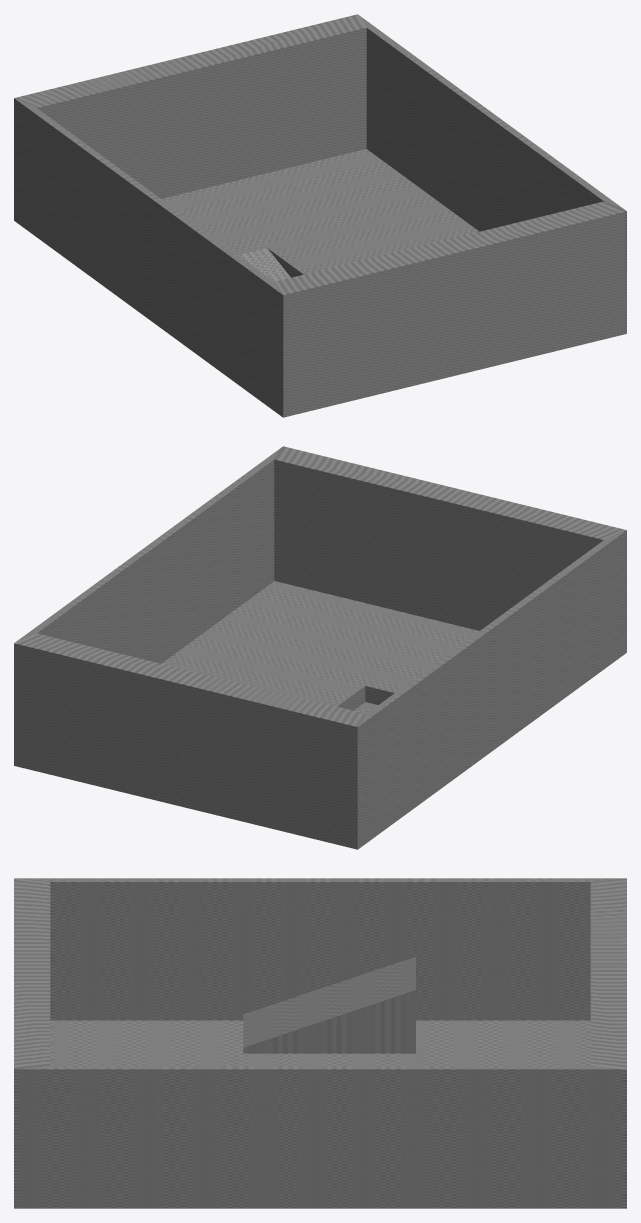
The model's file is obstacle-level-structure.glb.
The picture shows the model from 3 angles, top to bottom: view 1: azimuth 30°, elevation 25°; view 2: azimuth 150°, elevation 25°; view 3: azimuth 270°, elevation 25°; orthographic projection. The views are drawn at different scales.
Parts seen in each view (by area): view 1: level; view 2: level; view 3: level.
Boxes of the visible parts, bbox=[...] form: level: bbox=[14, 14, 626, 417]; level: bbox=[14, 446, 626, 849]; level: bbox=[14, 878, 626, 1208].
Bounding box in the file's own units: 968 × 387 × 1312.
1 material, 1 textured.
